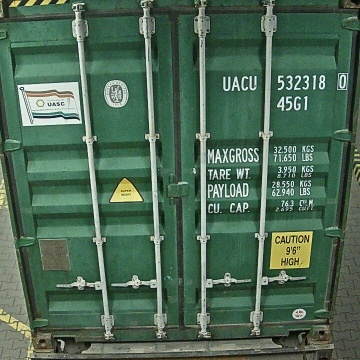serial_id: (222, 74, 348, 91)
